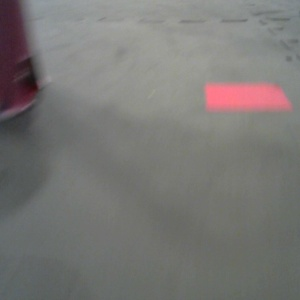Right: (167, 1, 244, 84)
